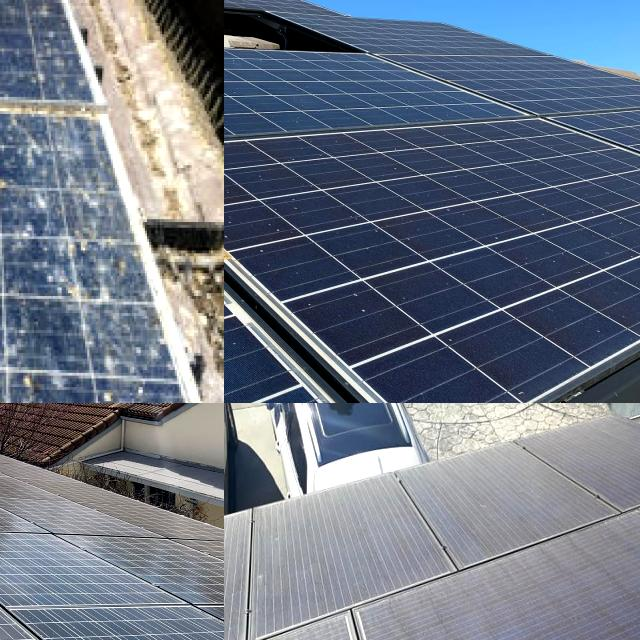bird: (60, 230, 128, 324), (0, 322, 42, 403), (0, 313, 32, 395), (1, 354, 54, 402), (0, 139, 30, 207), (0, 270, 21, 332)
dust: (280, 143, 580, 290), (378, 561, 629, 640), (273, 514, 382, 632), (224, 254, 295, 403), (444, 458, 530, 546), (573, 421, 640, 509)
